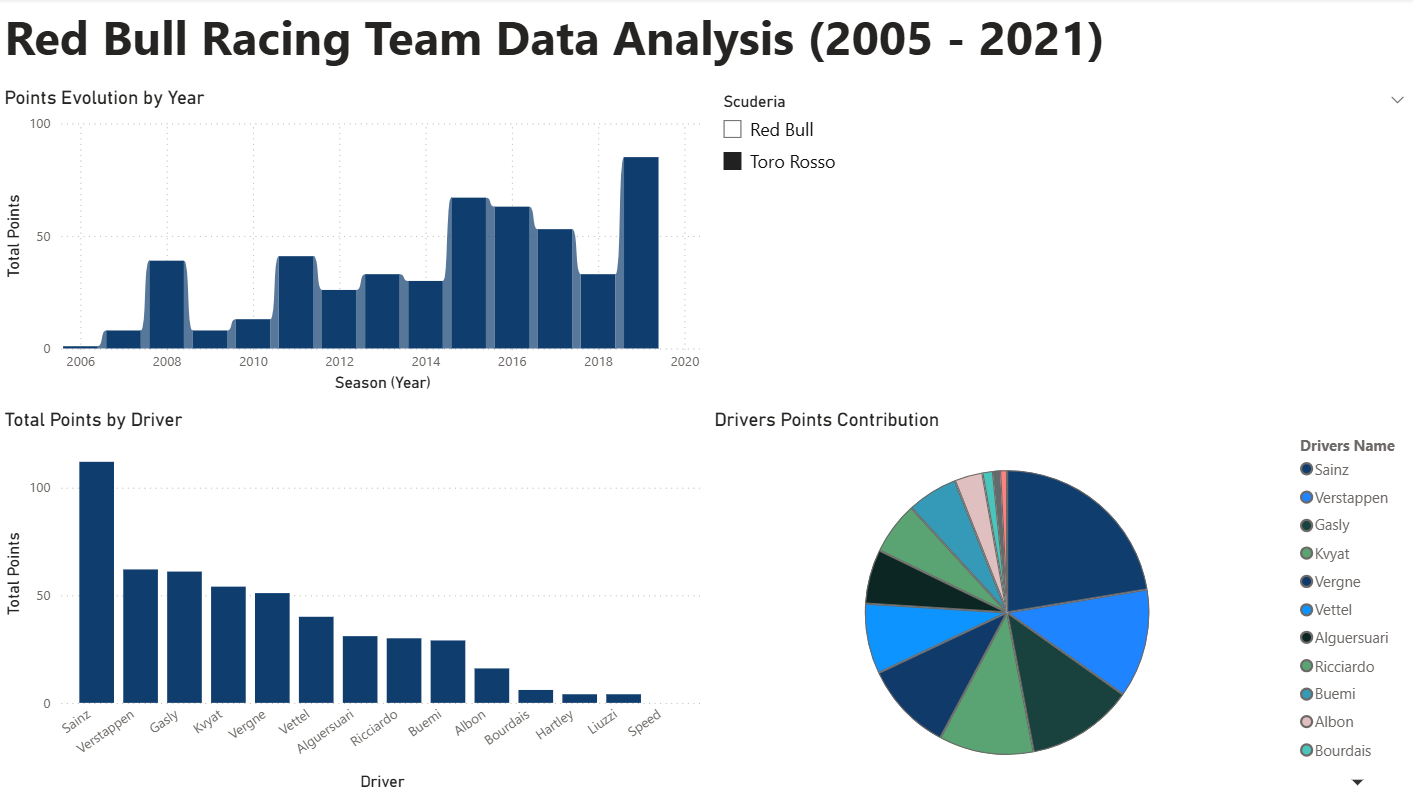

What the dashboard file says about the page in this screenshot:
{"tool":"powerbi","page":{"name":"Performance Evolution","canvas":[1280,720],"ordinal":1},"visuals":[{"type":"columnChart","title":"Points Evolution by Year","fields":{"Category":["data.year"],"Y":["data.points"]},"box":[0,80,640,280],"z":0},{"type":"textbox","box":[0,0,1076.7,80.2],"z":1000},{"type":"slicer","fields":{"Values":["data.Scuderia"]},"box":[640,80,640,280],"z":2000},{"type":"columnChart","title":"Total Points by Driver","fields":{"Y":["data.points"],"Category":["data.drivers_surname"]},"box":[0,370.1,639.9,349.9],"z":3000},{"type":"pieChart","title":"Drivers Points Contribution","fields":{"Category":["data.drivers_surname"],"Y":["data.points"]},"box":[640,370,640,350],"z":4000}]}

Visuals, with their boxes in screenshot pixels (x1, y1, x2, y2), scaled from the page's 1280x720 canvas onto the 1413x787 screenshot:
"Points Evolution by Year" columnChart: x1=0, y1=87, x2=706, y2=393
textbox: x1=0, y1=0, x2=1189, y2=88
slicer - data.Scuderia: x1=706, y1=87, x2=1412, y2=393
"Total Points by Driver" columnChart: x1=0, y1=405, x2=706, y2=786
"Drivers Points Contribution" pieChart: x1=706, y1=404, x2=1412, y2=786
